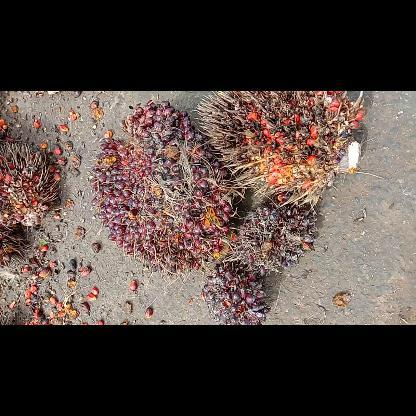TBS abnormal: (232, 192, 318, 272), (202, 260, 270, 324)
TBS masak: (86, 99, 236, 277)
Terlalu masak: (192, 92, 368, 209)
